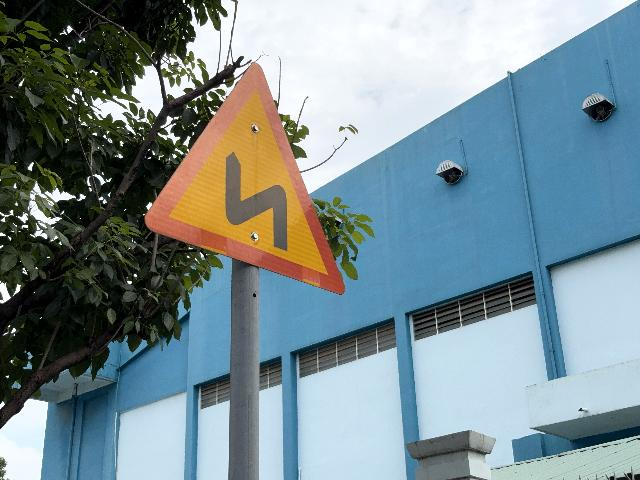nhieu-cho-ngoat-nguy-hiem-lien-tiep: (144, 61, 346, 295)
